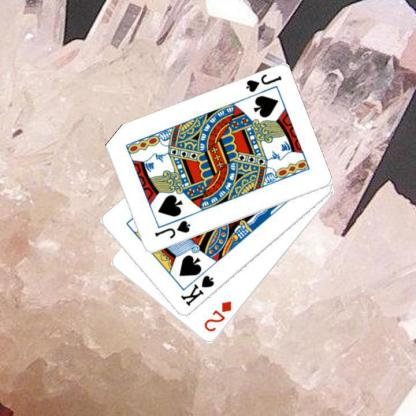2D: (201, 299, 233, 333)
JS: (152, 218, 192, 240), (243, 72, 283, 94)
KS: (178, 273, 215, 308)
